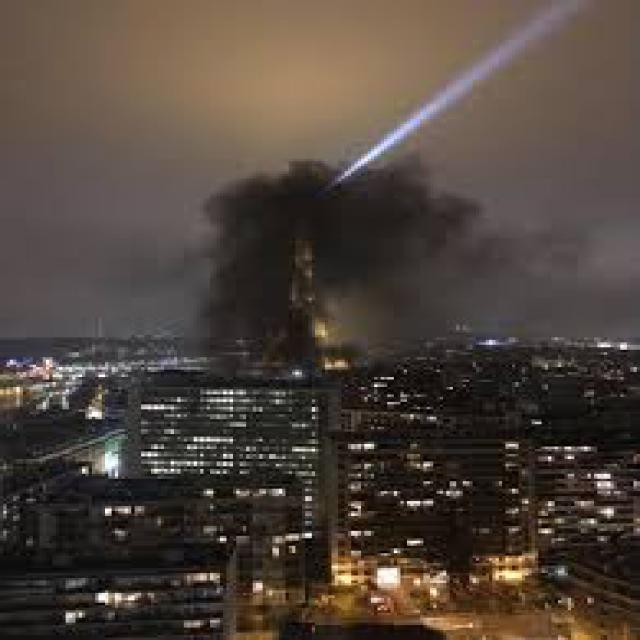smoke: (194, 166, 515, 370)
